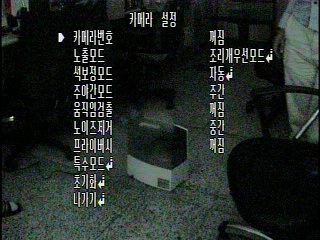smoke: (140, 101, 179, 133)
